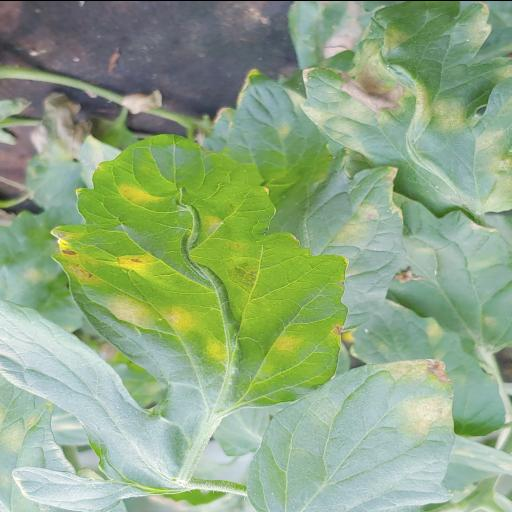Leaf Mold: (0, 131, 351, 512), (244, 357, 458, 512)
